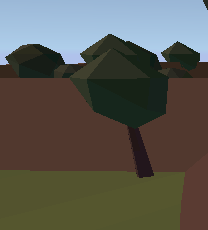tree: (68, 46, 170, 179)
